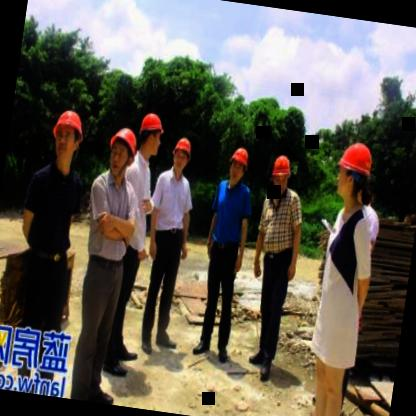helmet: (330, 137, 376, 212), (43, 100, 89, 172), (105, 122, 138, 175), (135, 106, 167, 158), (262, 152, 296, 200), (166, 132, 194, 176), (224, 144, 252, 186)
